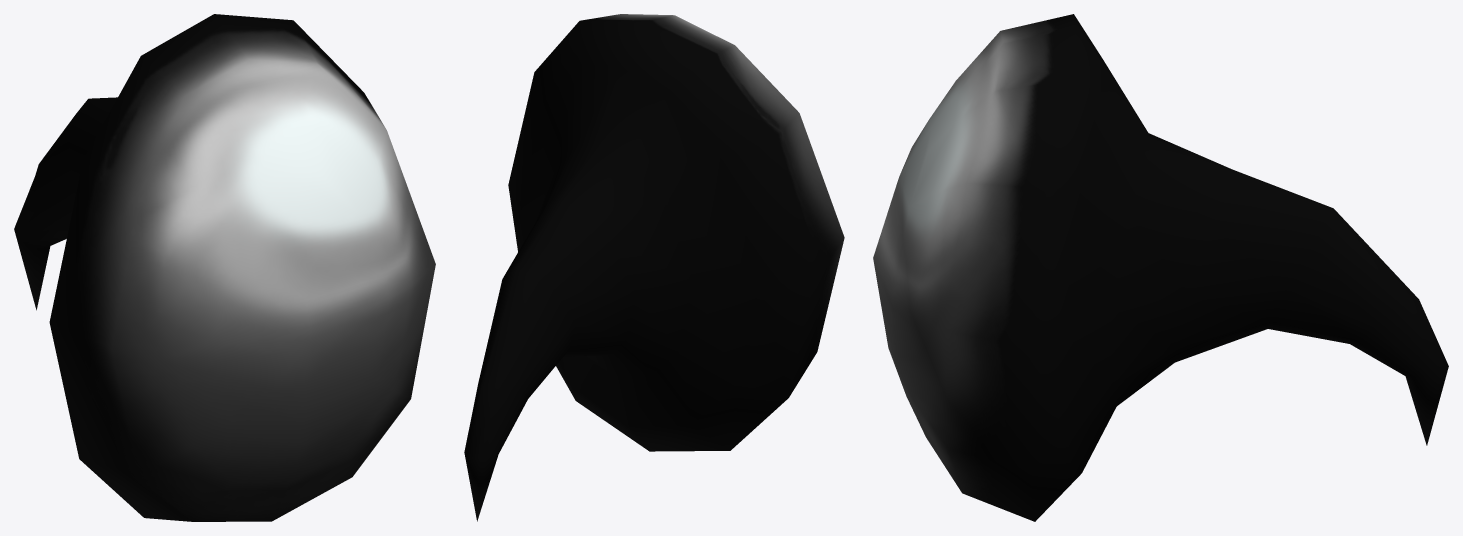
File: OjoSlime.fbx
3 renders of one model, left to right at view 1: azimuth 30°, elevation 25°; view 2: azimuth 150°, elevation 25°; view 3: azimuth 270°, elevation 25°, orthographic. The views are drawn at different scales.
Visible parts, largest first — view 1: Ojo_V1; view 2: Ojo_V1; view 3: Ojo_V1.
Part boxes in pixels (left/top/right/bottom): Ojo_V1: left=14, top=14, right=435, bottom=521; Ojo_V1: left=464, top=14, right=844, bottom=521; Ojo_V1: left=873, top=14, right=1448, bottom=521.
Size of the model in its own units: 19.06 by 25.52 by 27.71.
Materials: 1 (1 with a texture image).
